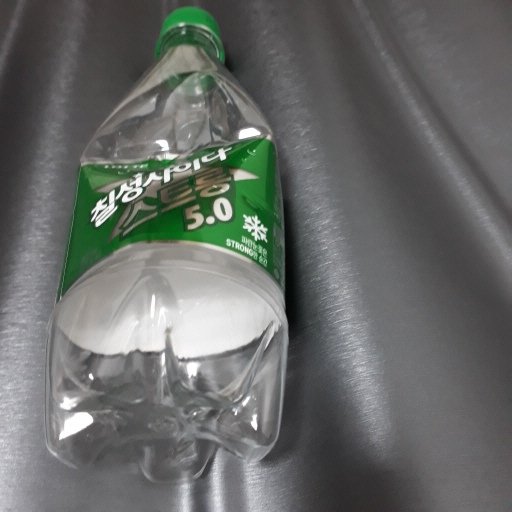Plastic_0: (48, 6, 288, 481)
